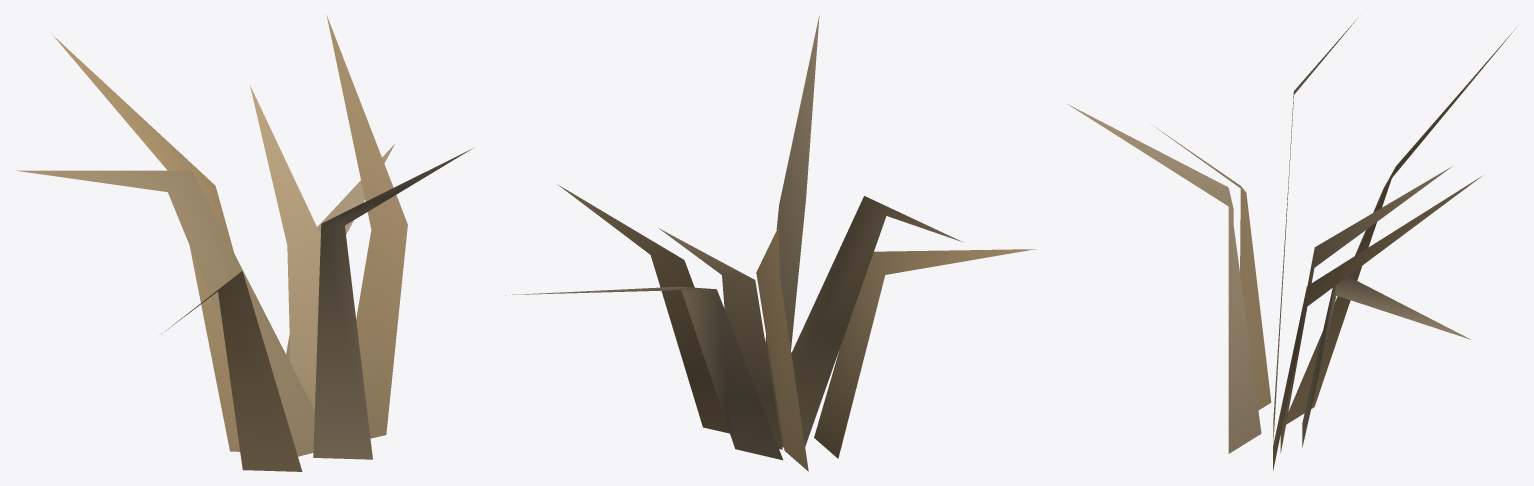
The model's file is Grass_g_OneS_03.fbx.
The picture shows the model from 3 angles, left to right: view 1: azimuth 30°, elevation 25°; view 2: azimuth 150°, elevation 25°; view 3: azimuth 270°, elevation 25°; orthographic projection. The views are drawn at different scales.
Parts seen in each view (by area): view 1: Grass_g_OneS_03; view 2: Grass_g_OneS_03; view 3: Grass_g_OneS_03.
Boxes of the visible parts, x1=… form: Grass_g_OneS_03: x1=16, y1=15, x2=472, y2=471; Grass_g_OneS_03: x1=505, y1=14, x2=1035, y2=471; Grass_g_OneS_03: x1=1067, y1=17, x2=1515, y2=470.
Size of the model in its own units: 54.84 by 44.34 by 50.6.
